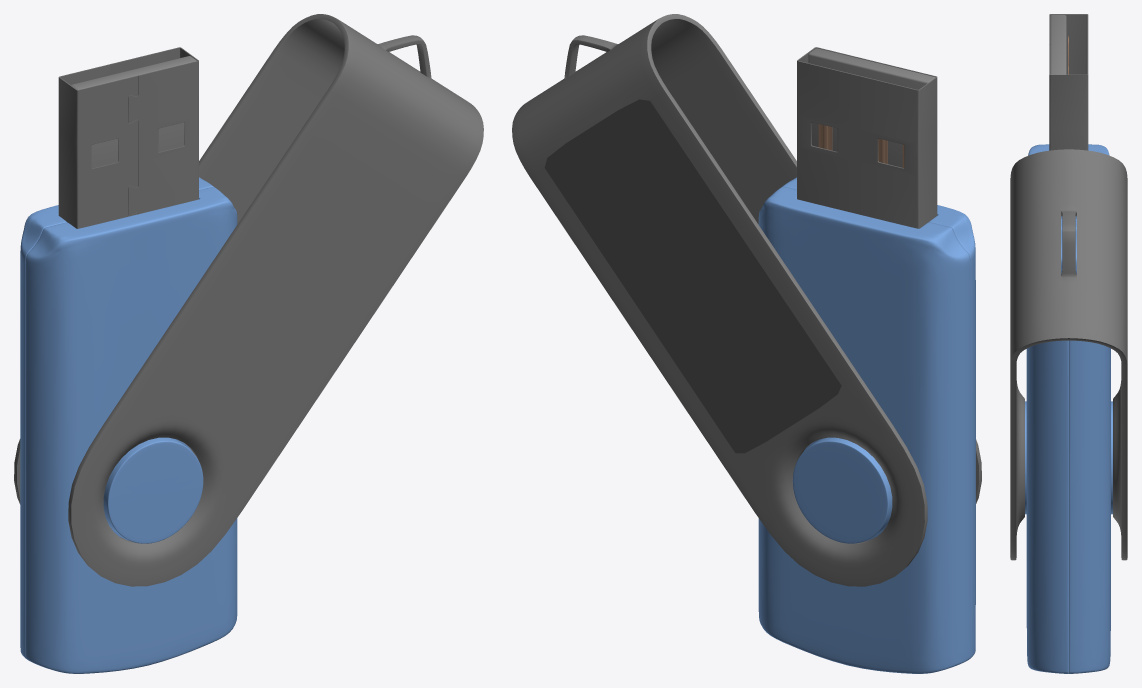
Rendered from usb_swing_web_0003.glb.
3 renders of one model, left to right at view 1: azimuth 30°, elevation 25°; view 2: azimuth 150°, elevation 25°; view 3: azimuth 270°, elevation 25°, orthographic. The views are drawn at different scales.
Parts seen in each view (by area): view 1: buegel-Mat.5, body, platine-Mat.5, platine-usb2; view 2: buegel-Mat.5 (×2), body, platine-Mat.5, platine-usb2; view 3: body, buegel-Mat.5, platine-Mat.5, platine-usb2.
Boxes of the visible parts, left/top/right/bottom form: buegel-Mat.5: left=14, top=14, right=483, bottom=586; body: left=20, top=177, right=237, bottom=673; platine-Mat.5: left=58, top=47, right=198, bottom=228; platine-usb2: left=71, top=56, right=196, bottom=187; buegel-Mat.5 (×2): left=512, top=14, right=981, bottom=586; body: left=758, top=177, right=975, bottom=673; platine-Mat.5: left=797, top=47, right=937, bottom=228; platine-usb2: left=808, top=48, right=935, bottom=167; body: left=1025, top=144, right=1112, bottom=673; buegel-Mat.5: left=1010, top=149, right=1127, bottom=560; platine-Mat.5: left=1049, top=14, right=1088, bottom=216; platine-usb2: left=1050, top=15, right=1066, bottom=74.
Bounding box in the file's own units: 87.62 × 110 × 19.48.
